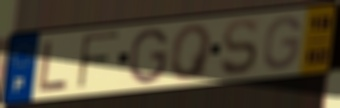F: (74, 30, 122, 93)
G: (261, 14, 304, 73), (128, 26, 170, 86)
L: (37, 39, 71, 94)
Q: (168, 22, 215, 83)
S: (218, 17, 260, 78)
